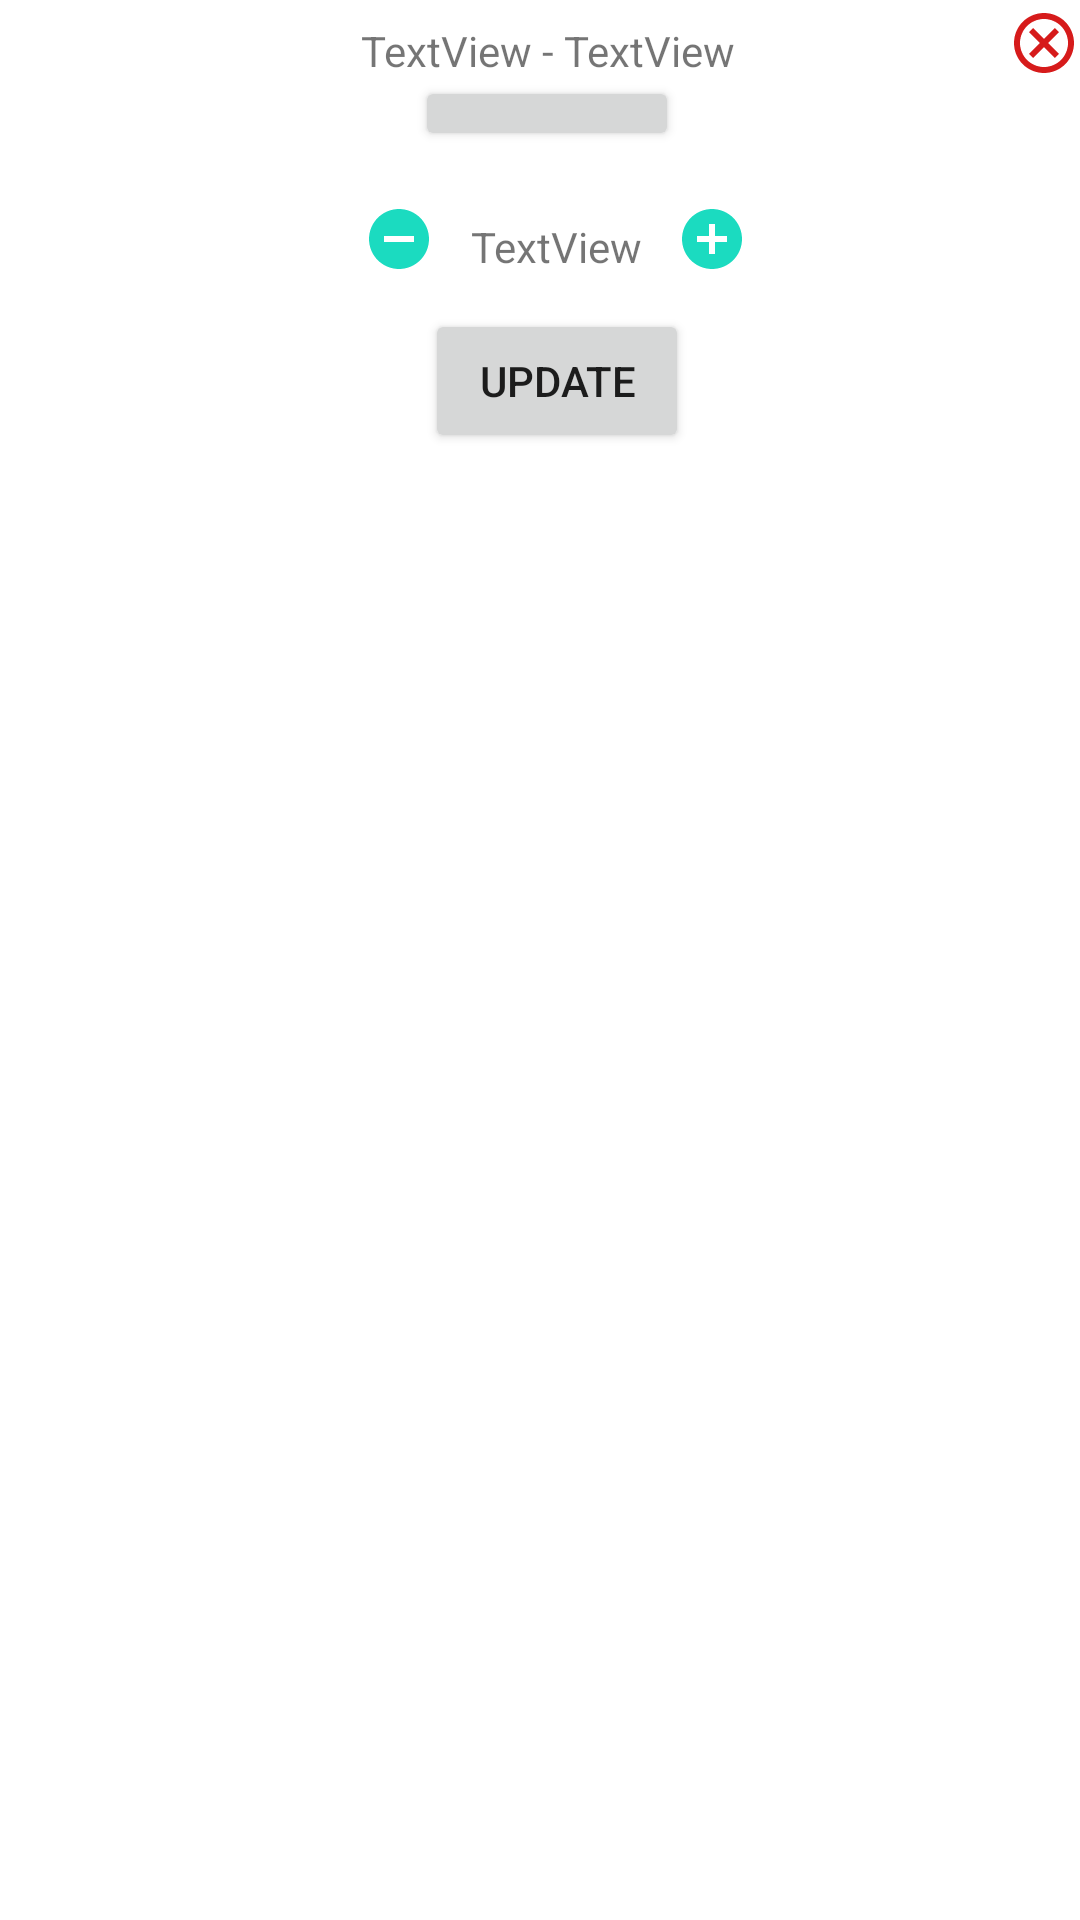

Screen size 1080*1920. Icon name, then its box in pixels as (x1, y1, x2, y2):
add circle: (682, 209, 742, 269)
close: (1014, 13, 1074, 73)
remove circle: (369, 209, 429, 269)
